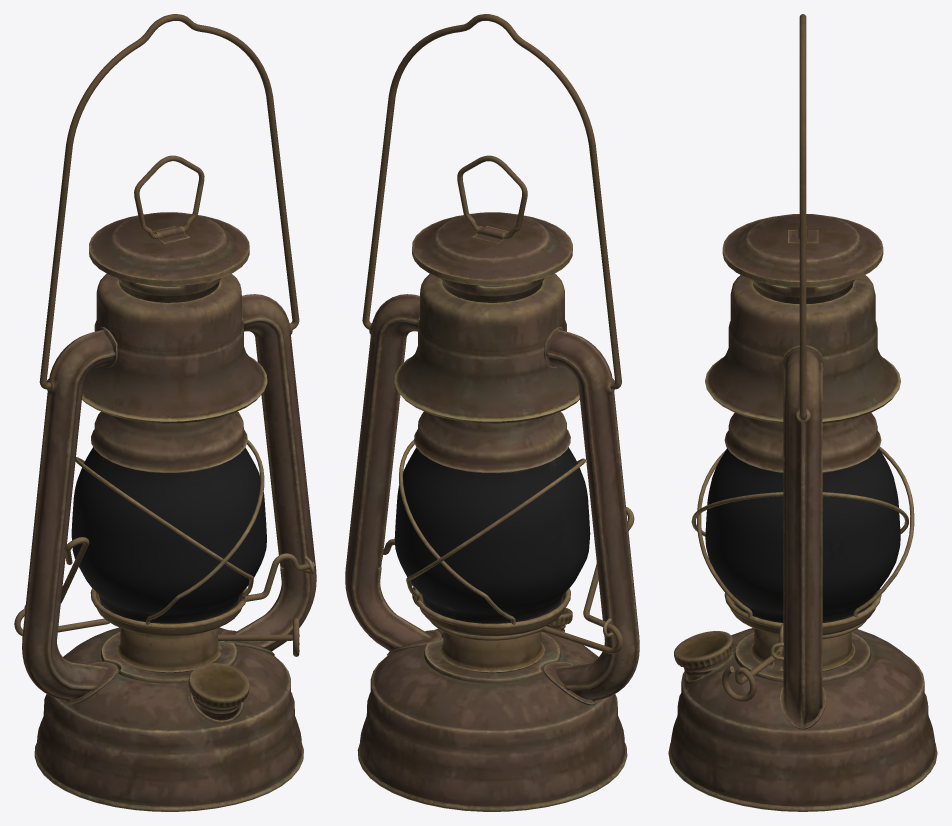
The model's file is premium-ph-hurricane-lantern.glb.
3 views of the same model, side by side, from view 1: azimuth 30°, elevation 25°; view 2: azimuth 150°, elevation 25°; view 3: azimuth 270°, elevation 25° (orthographic).
Visible parts, largest first — view 1: Lantern_01, Lantern_01_glass; view 2: Lantern_01, Lantern_01_glass; view 3: Lantern_01, Lantern_01_glass.
Part boxes in pixels (<box>): Lantern_01: <box>14,14,316,811</box>; Lantern_01_glass: <box>71,447,266,623</box>; Lantern_01: <box>345,14,639,811</box>; Lantern_01_glass: <box>394,447,590,623</box>; Lantern_01: <box>668,14,937,811</box>; Lantern_01_glass: <box>705,448,900,622</box>.
Bounding box in the file's own units: 0.1221 × 0.2942 × 0.0972.
2 materials, 2 textured.
